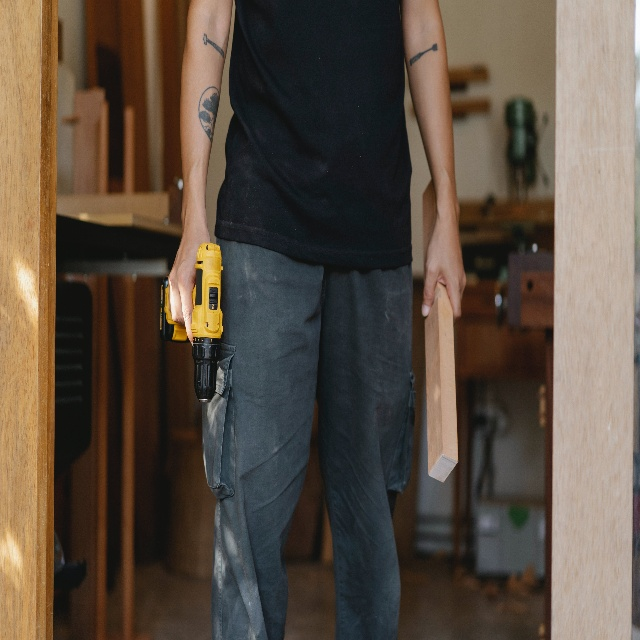Sin_guantes: (167, 214, 211, 345), (421, 208, 466, 324)
